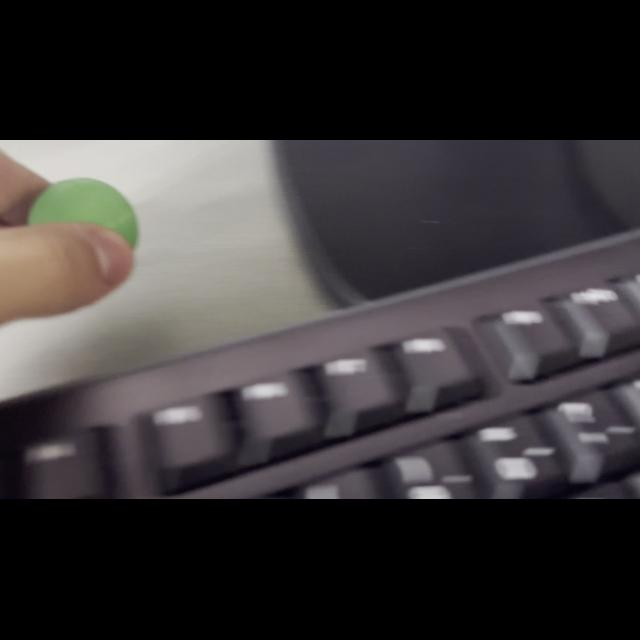objects: (18, 174, 144, 254)
